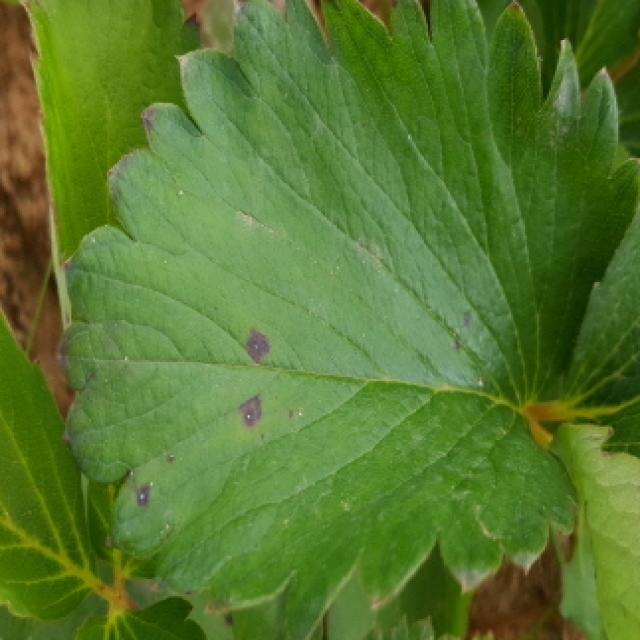Leaf Spot: (52, 0, 640, 640), (185, 585, 288, 640)
